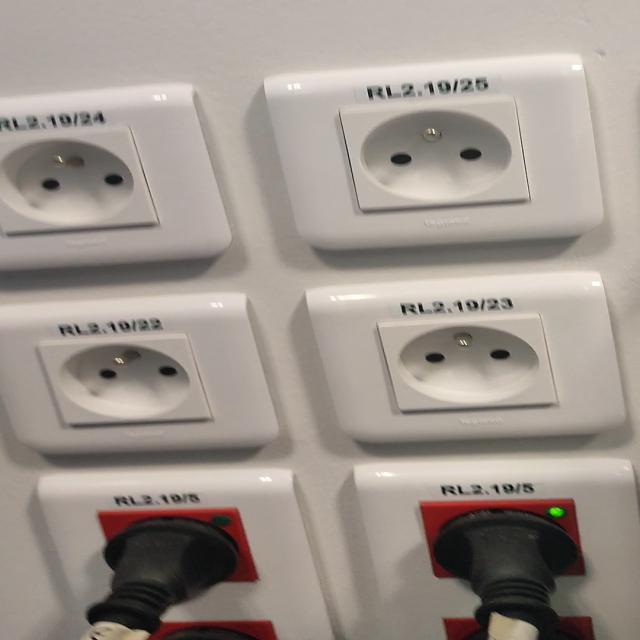house plug: (339, 96, 531, 212), (377, 314, 558, 412), (39, 334, 214, 426)
